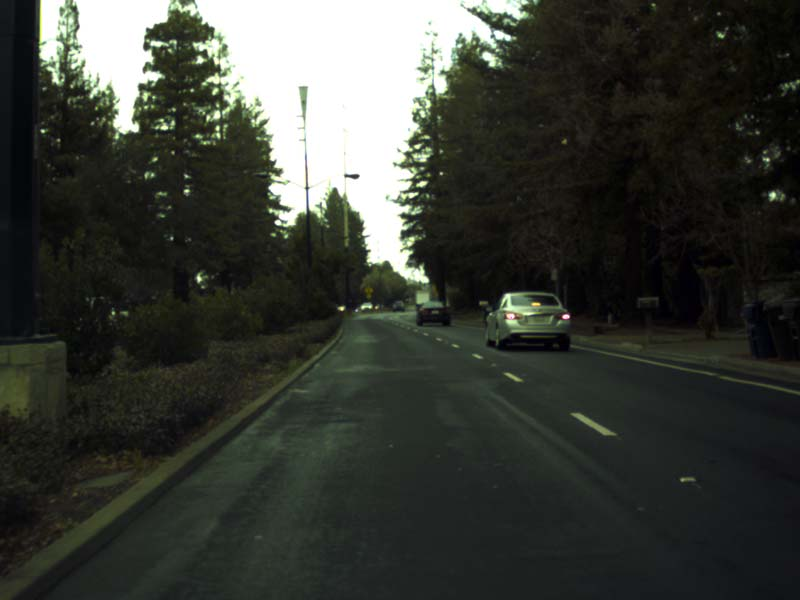Red: (405, 295, 408, 303)
